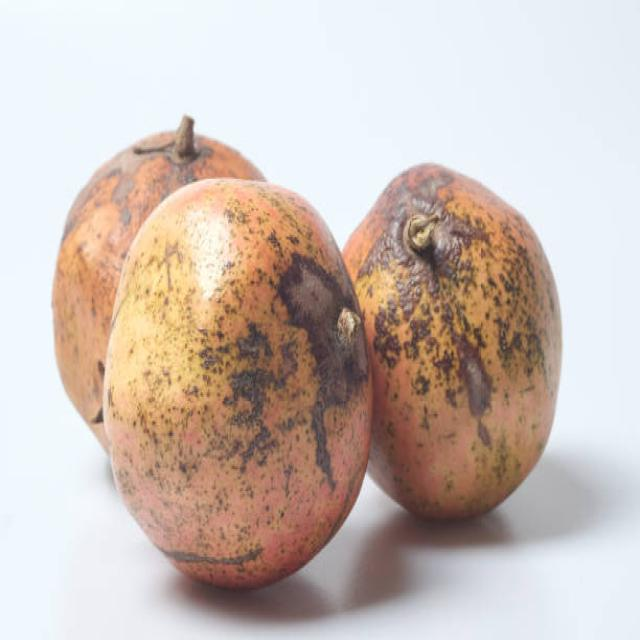overripe: (100, 166, 374, 596), (343, 159, 566, 528)
